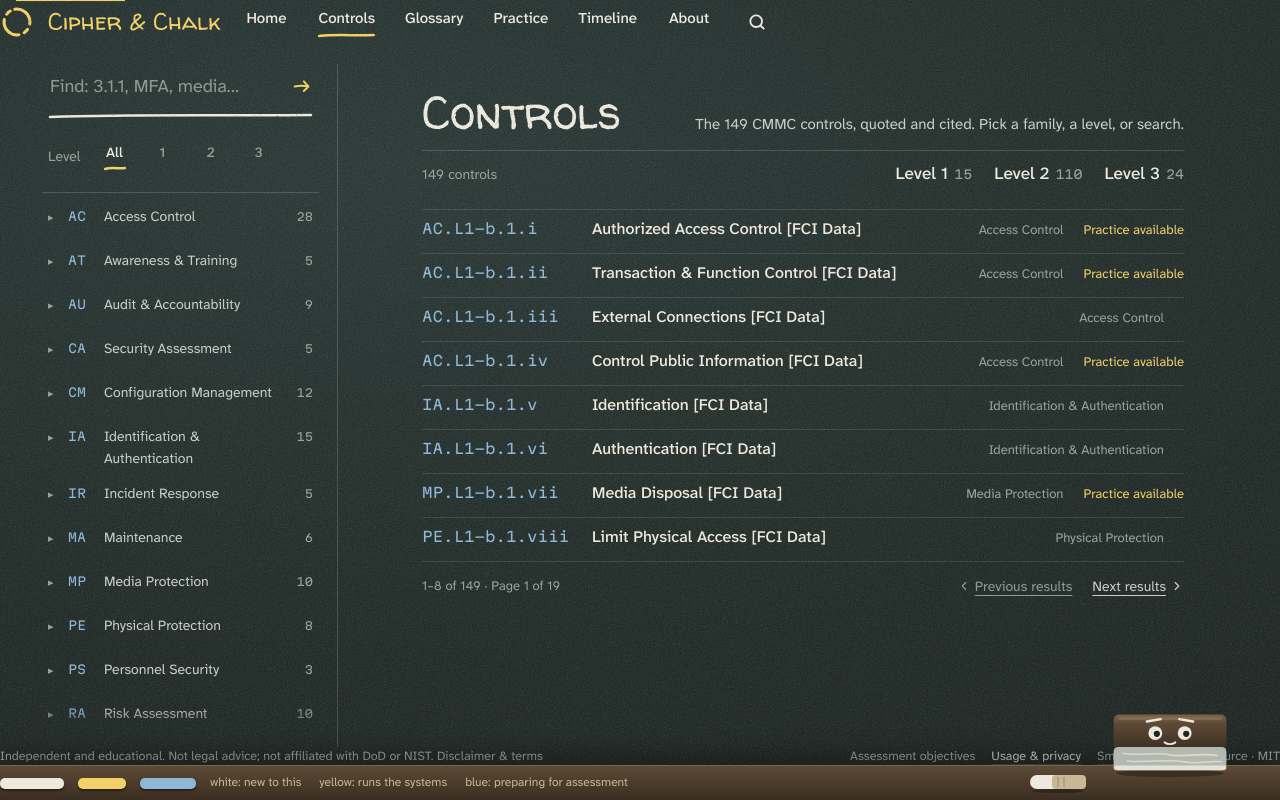
the rail of every control › filters the rail as you type, opening the families that still match
In the search field named "Find controls": [164, 86] box left=48, top=64, right=281, bottom=108, type "media"
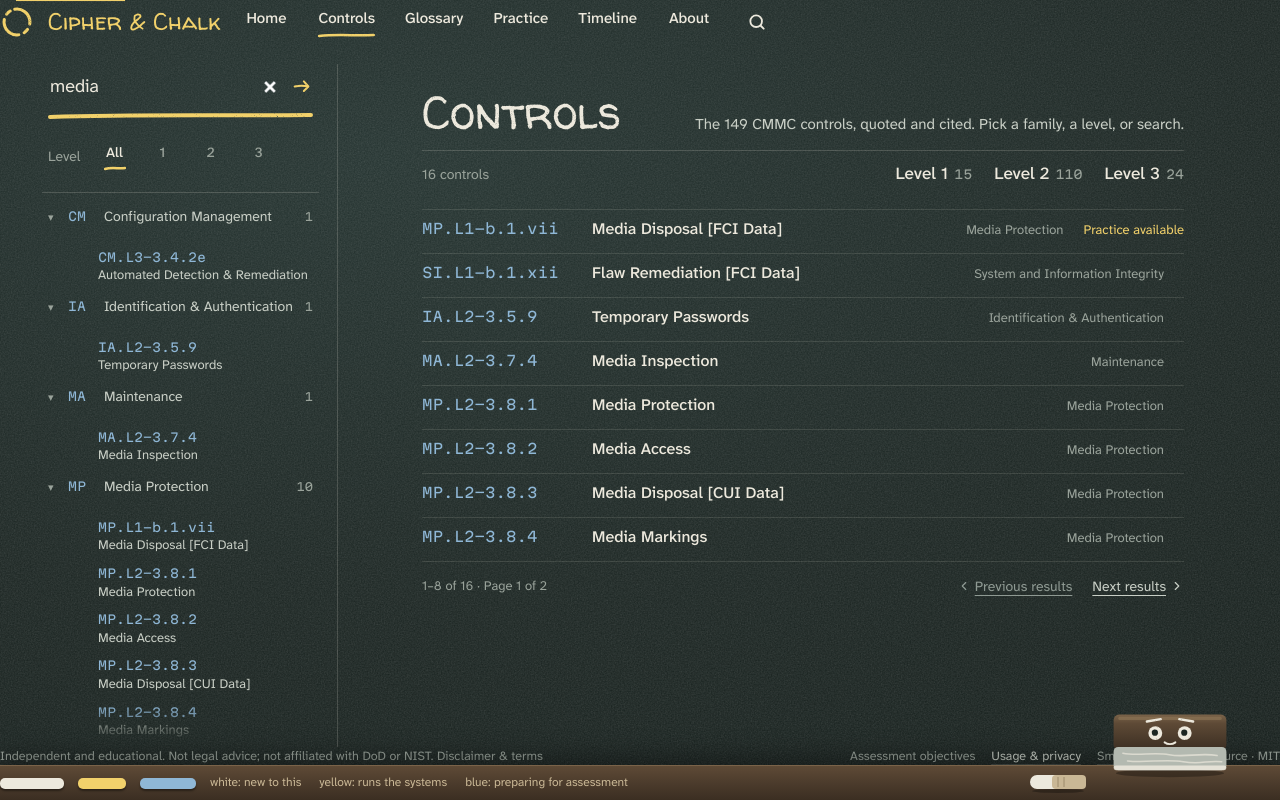
Now the link "AT " is gone
Now the link "MP.L1-b.1.vii Media Disposal [FCI Data]" is shown, box left=98, top=520, right=249, bottom=553
